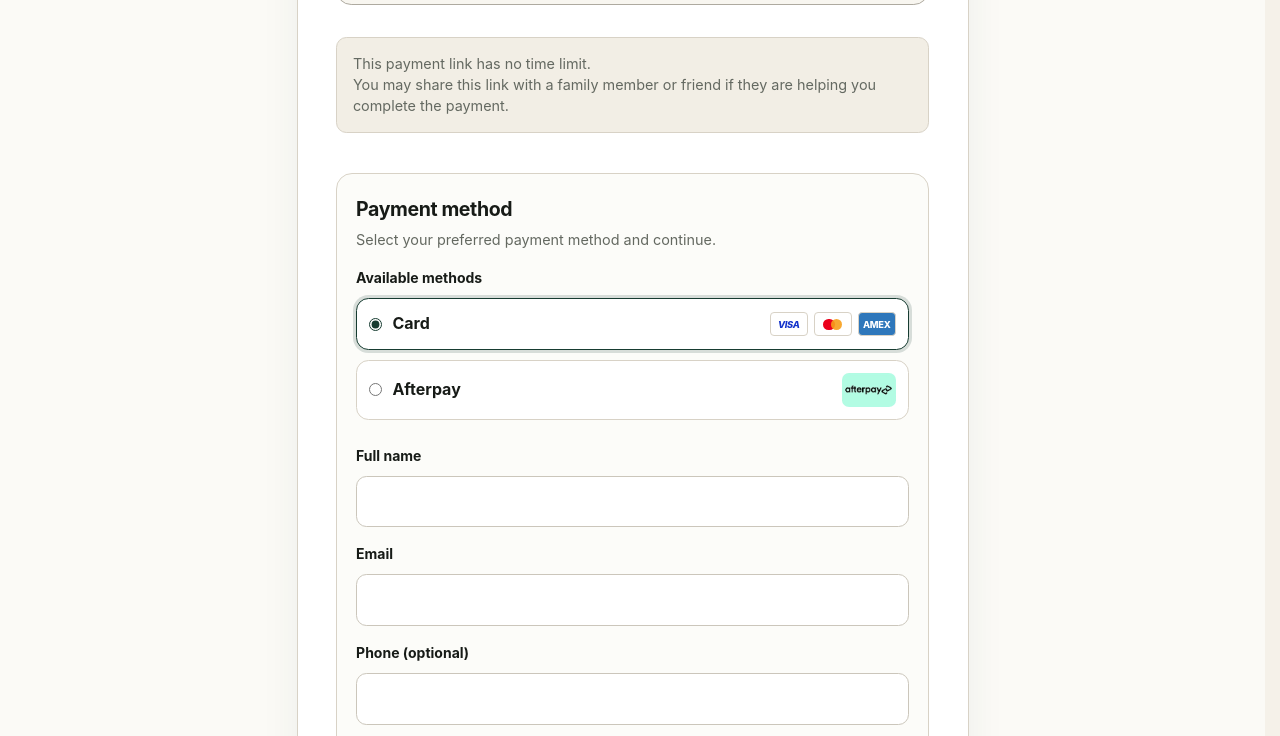
Test: PaymentRequestView › requires no address for Card and reveals address only for Afterpay
(page scrolled)
Expected: the field labelled "Street address" is not shown
Click the radio button named "Afterpay" at coordinates (376, 390), box [369,383,382,396]
(page scrolled)
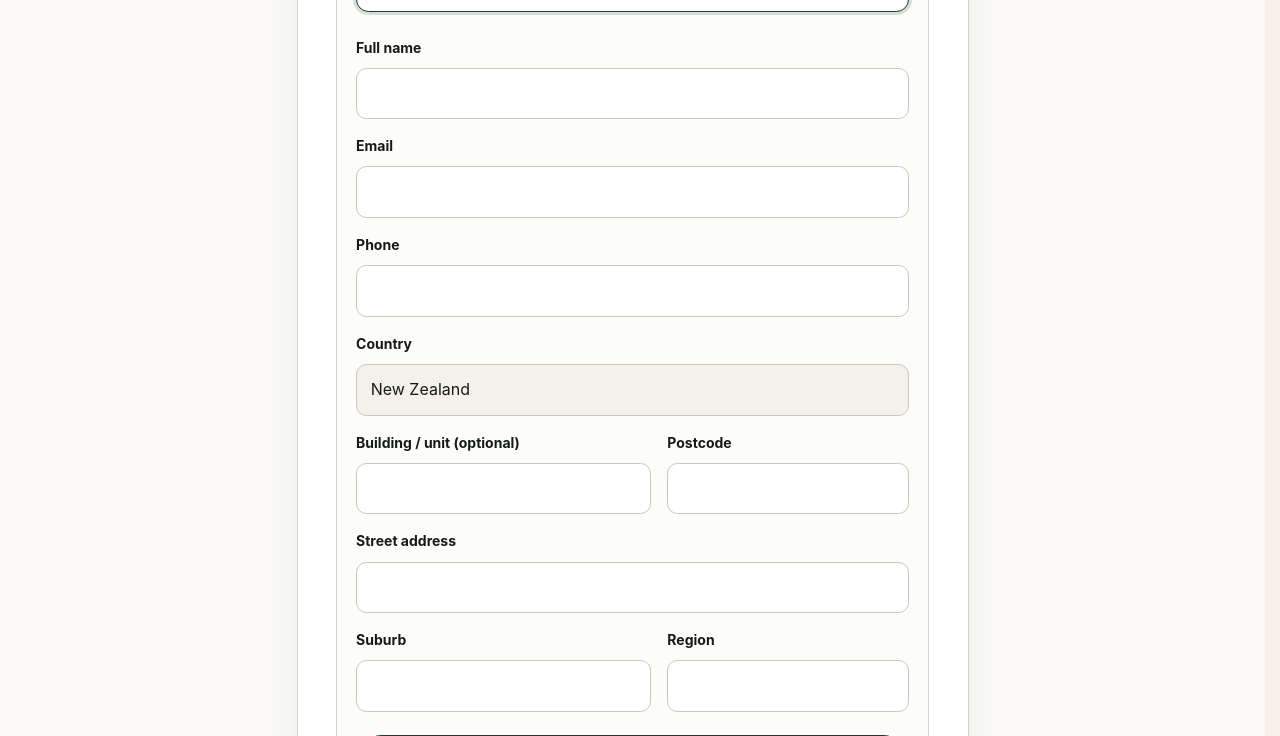
Expected: the field labelled "Street address" is shown, [356,562,909,613]
Expected: the field labelled "Country" is shown, [356,364,909,416]
